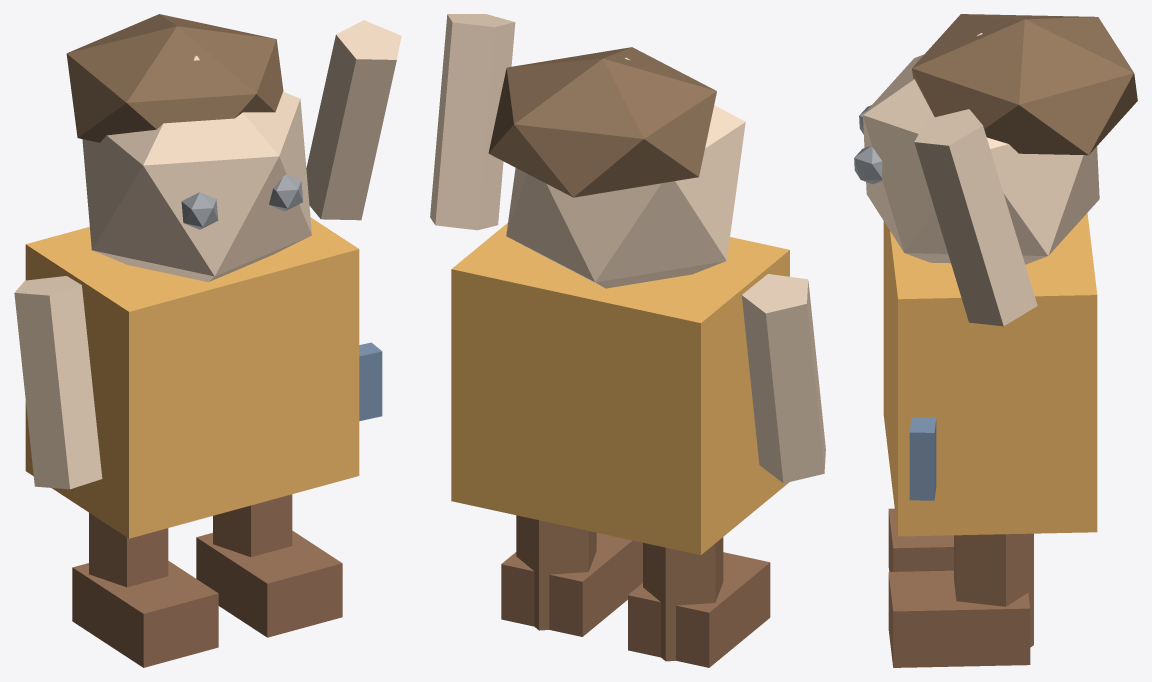
File: npcpose_villager_wave_06.glb
3 renders of one model, left to right at view 1: azimuth 30°, elevation 25°; view 2: azimuth 150°, elevation 25°; view 3: azimuth 270°, elevation 25°, orthographic. The views are drawn at different scales.
Parts seen in each view (by area): view 1: npcpose; view 2: npcpose; view 3: npcpose.
Part boxes in pixels (box(x1,y1,x2,y2)): npcpose: box(14, 14, 401, 667); npcpose: box(430, 14, 825, 667); npcpose: box(854, 14, 1137, 667).
Size of the model in its own units: 0.7159 by 1.06 by 0.4552.
